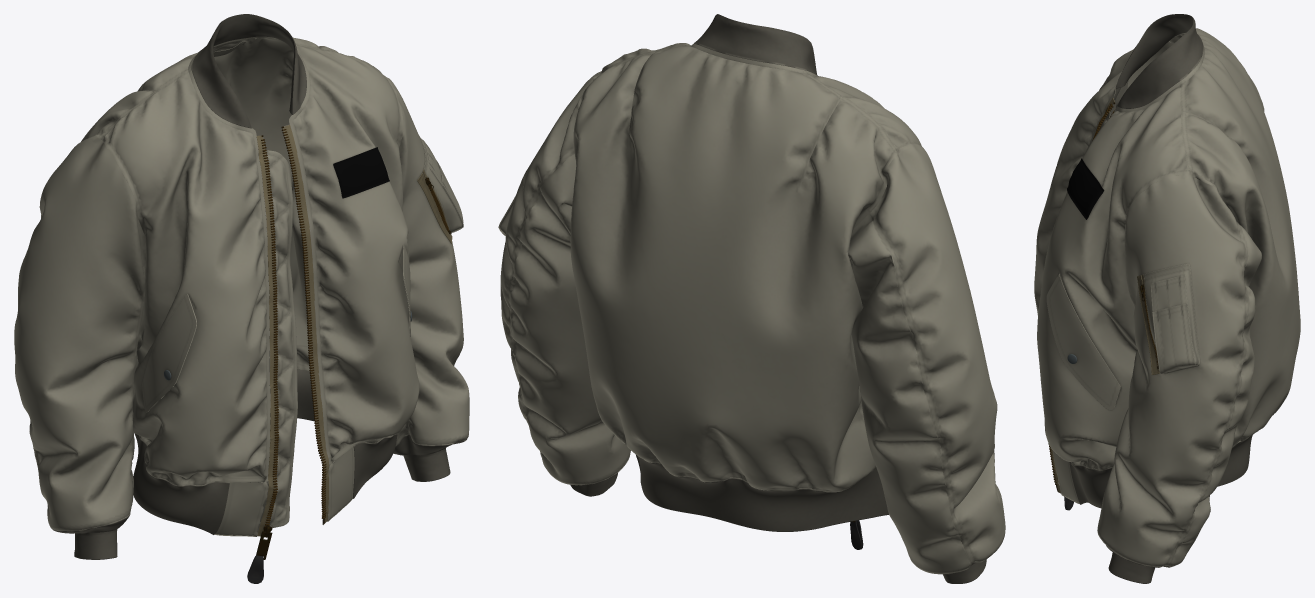
Rendered from MA-1_fix_n3.glb.
3 renders of one model, left to right at view 1: azimuth 30°, elevation 25°; view 2: azimuth 150°, elevation 25°; view 3: azimuth 270°, elevation 25°, orthographic. The views are drawn at different scales.
Visible parts, largest first — view 1: Cloth, BindedTrim_228205, BindedTrim_228043; view 2: Cloth; view 3: Cloth.
Part boxes in pixels (left/top/right/bottom): Cloth: left=14, top=14, right=469, bottom=583; BindedTrim_228205: left=281, top=129, right=326, bottom=519; BindedTrim_228043: left=261, top=139, right=278, bottom=531; Cloth: left=498, top=14, right=1005, bottom=583; Cloth: left=1034, top=14, right=1300, bottom=583.
Size of the model in its own units: 69.44 by 78.11 by 37.13.
16 materials, 14 textured.
